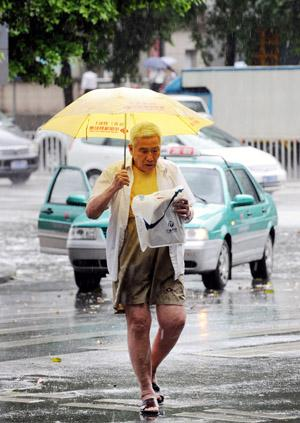person: (86, 122, 196, 413)
